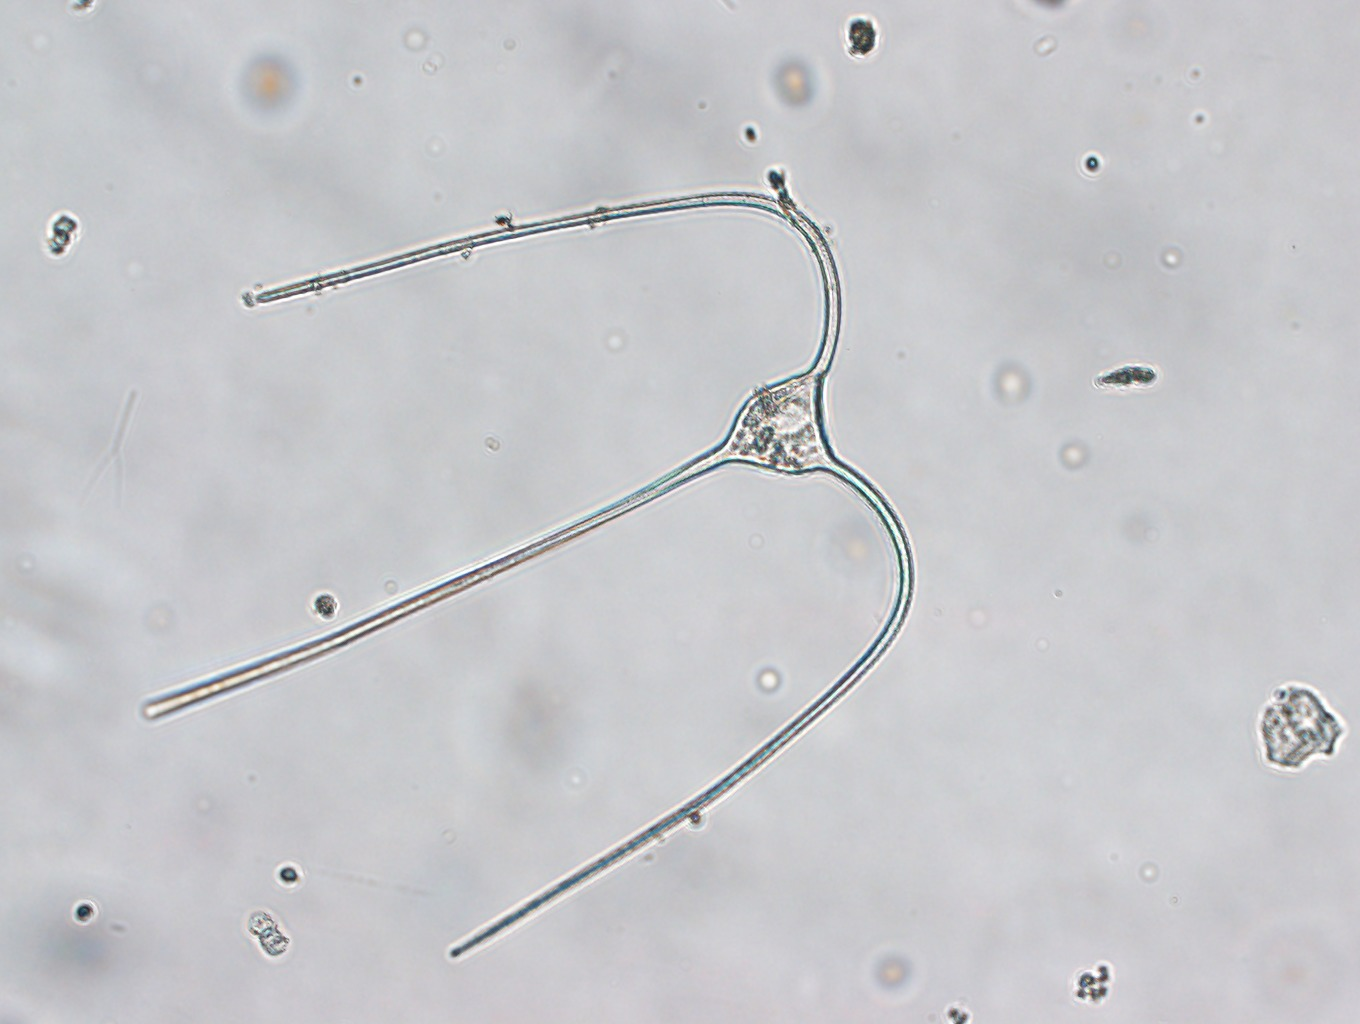ceratium trichoceros: (126, 177, 924, 962)
